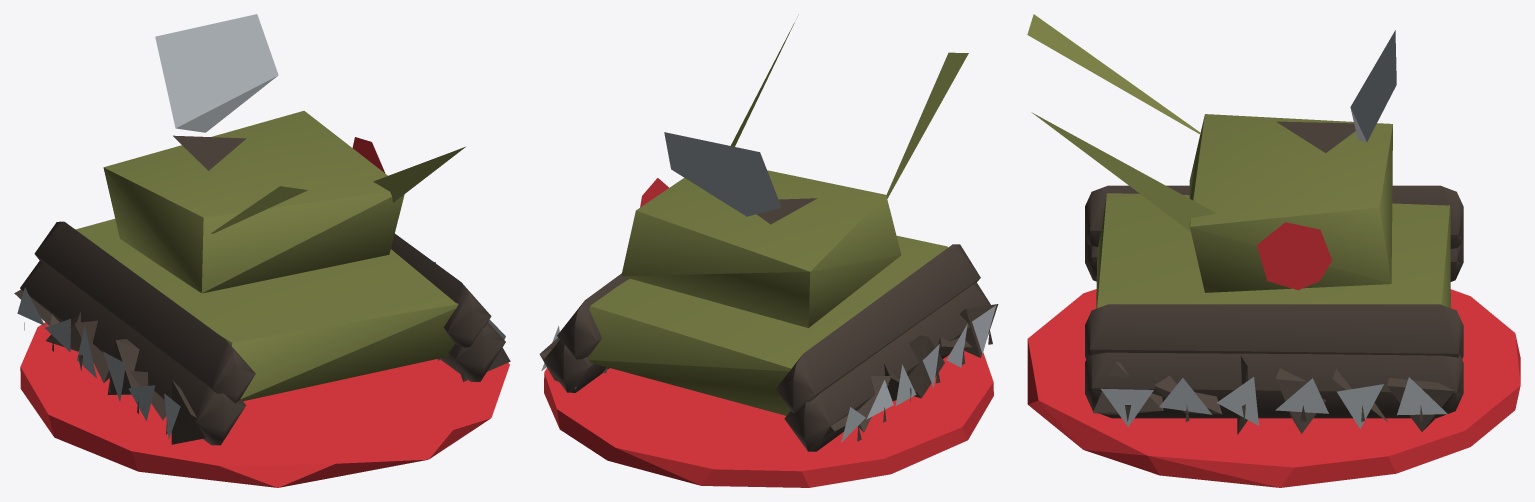
Rendered from japan_anti_aircraft_lod1.glb.
3 views of the same model, side by side, from view 1: azimuth 30°, elevation 25°; view 2: azimuth 150°, elevation 25°; view 3: azimuth 270°, elevation 25° (orthographic). The views are drawn at different scales.
Visible parts, largest first — view 1: body_hull, base_pedestal; view 2: body_hull, base_pedestal; view 3: body_hull, base_pedestal.
Part boxes in pixels (box(x1,y1,x2,y2)): body_hull: box(14, 14, 510, 445); base_pedestal: box(20, 322, 509, 487); body_hull: box(539, 14, 998, 451); base_pedestal: box(544, 351, 993, 487); body_hull: box(1027, 14, 1463, 434); base_pedestal: box(1027, 289, 1520, 487).
Bounding box in the file's own units: 0.7857 × 0.5607 × 0.7676.
